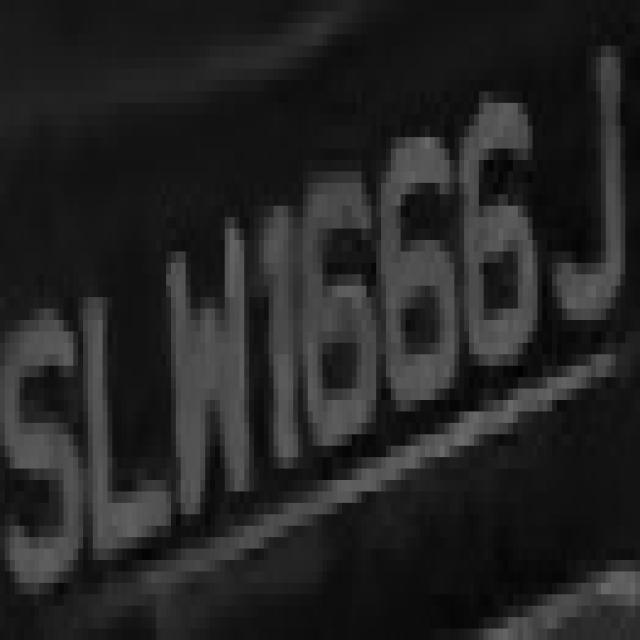1: (239, 194, 308, 457)
6: (357, 137, 464, 446), (445, 114, 547, 377), (288, 183, 372, 491)
J: (542, 34, 640, 366)
L: (88, 229, 166, 537)
S: (5, 263, 83, 628)
W: (161, 206, 264, 548)
